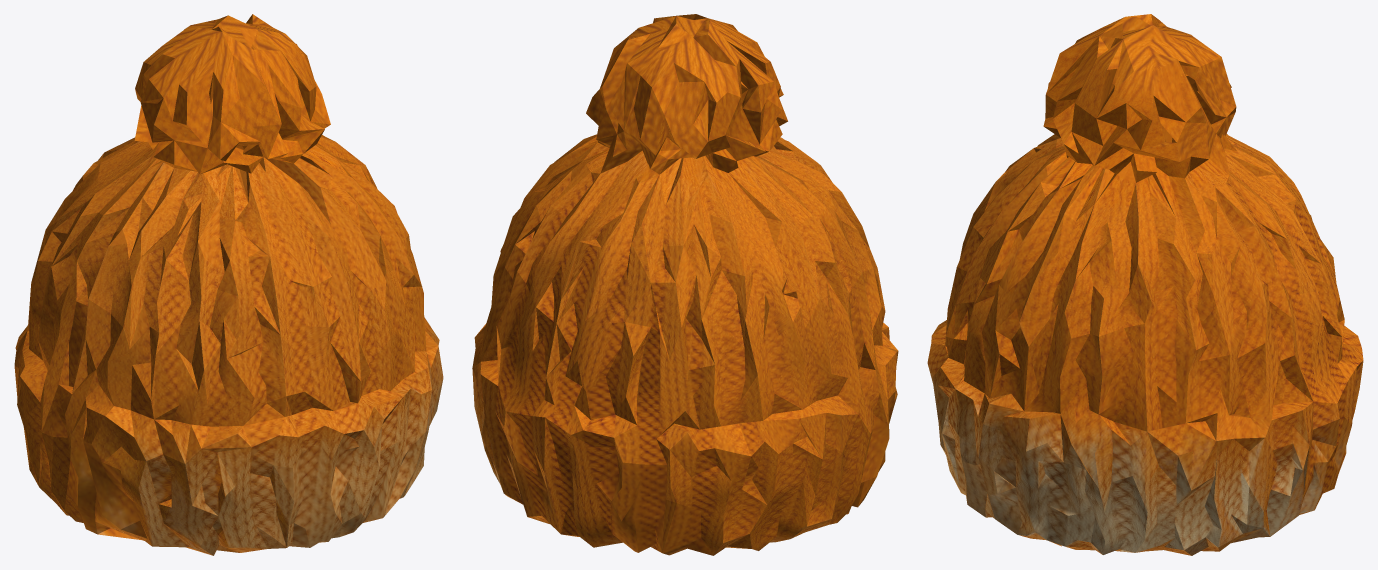
File: bobble_hat.glb
The picture shows the model from 3 angles, left to right: view 1: azimuth 30°, elevation 25°; view 2: azimuth 150°, elevation 25°; view 3: azimuth 270°, elevation 25°; orthographic projection.
Size of the model in its own units: 1.58 by 1.9 by 1.61.
Materials: 1 (1 with a texture image).
